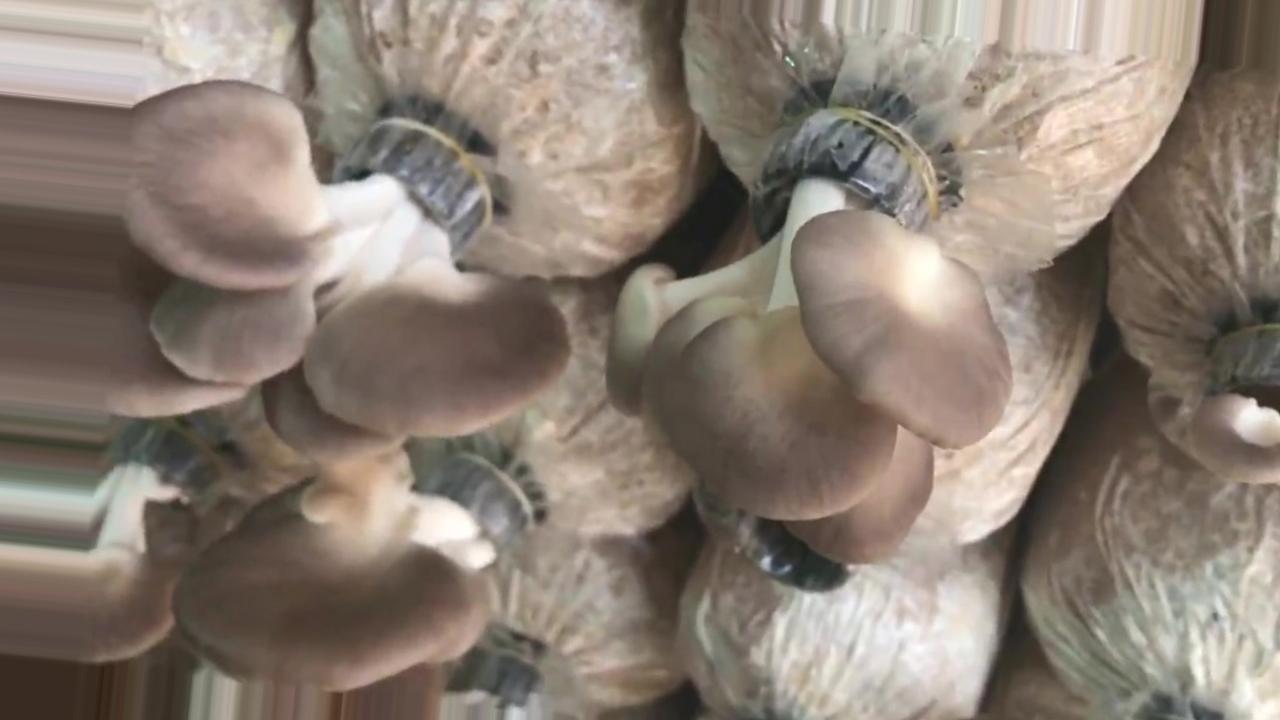nam: (1, 78, 570, 459), (604, 122, 1008, 561), (170, 454, 527, 684), (1, 423, 216, 663), (1188, 325, 1280, 484)
